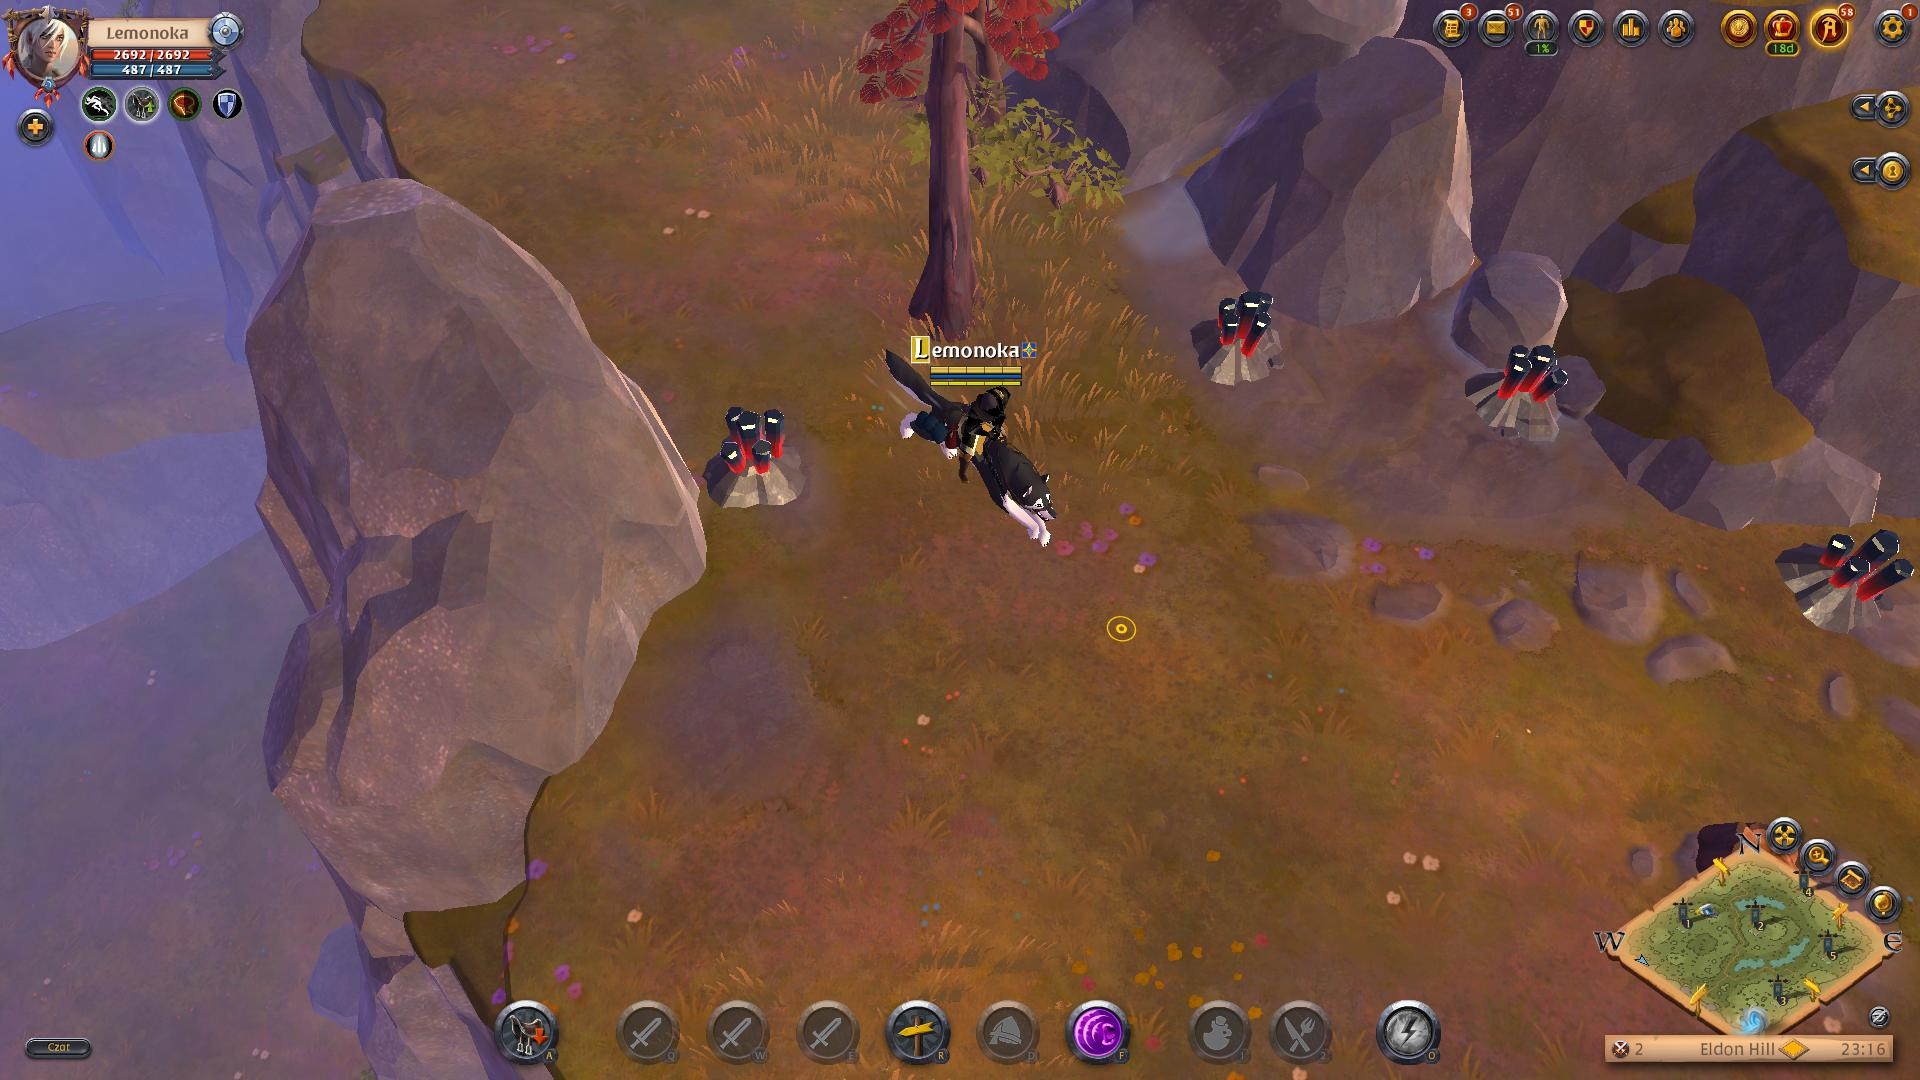ore tier 5: (1776, 524, 1920, 628), (700, 409, 814, 517), (1470, 340, 1572, 452), (1188, 289, 1290, 388)
